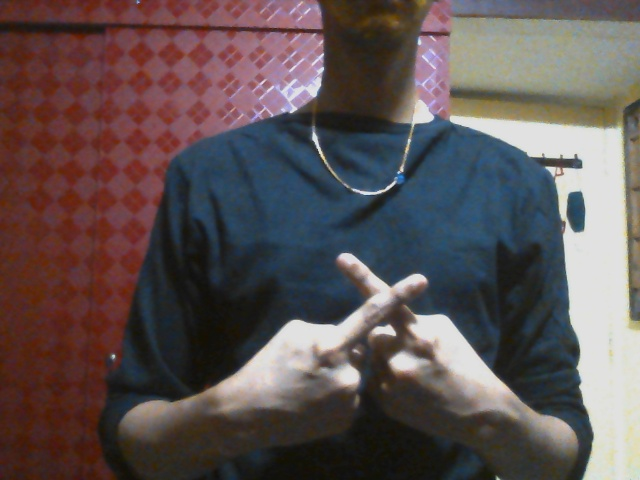X: (234, 252, 493, 447)
